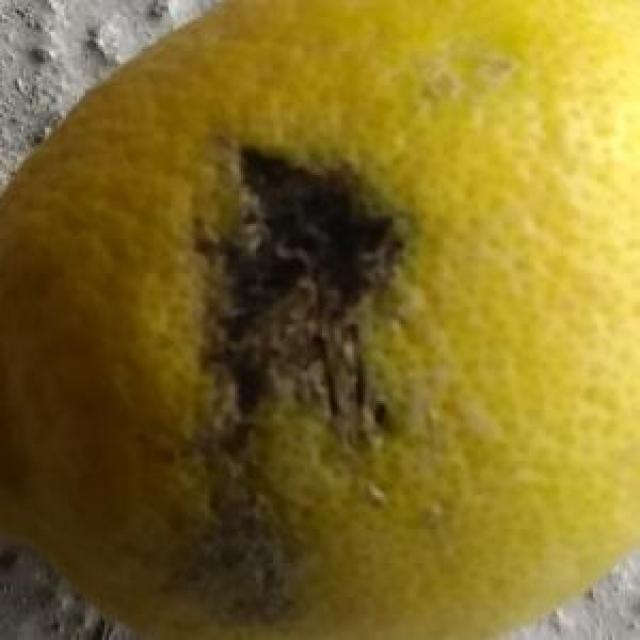lemon: (1, 4, 638, 640)
